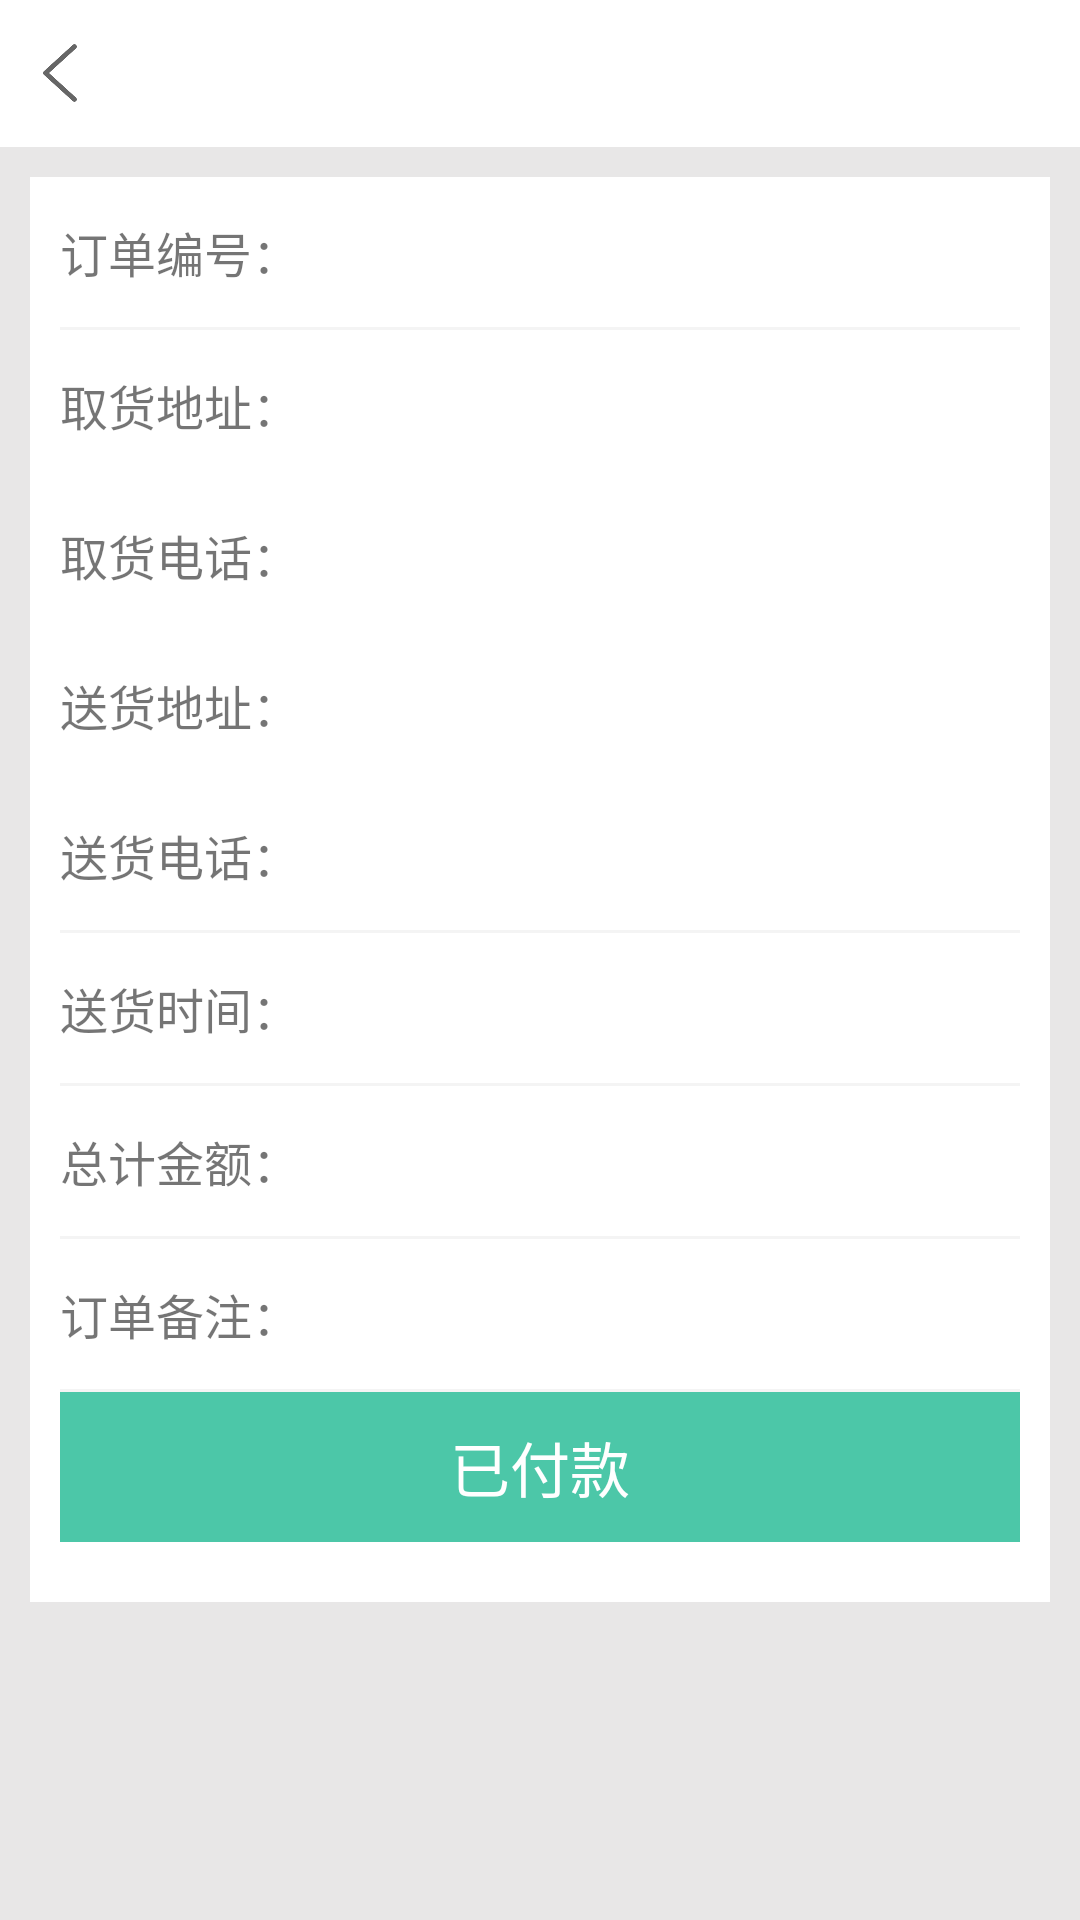

Icons on this 1080 × 1920 Android screen, each with the point to tap as (x,y):
back: (60,73)
